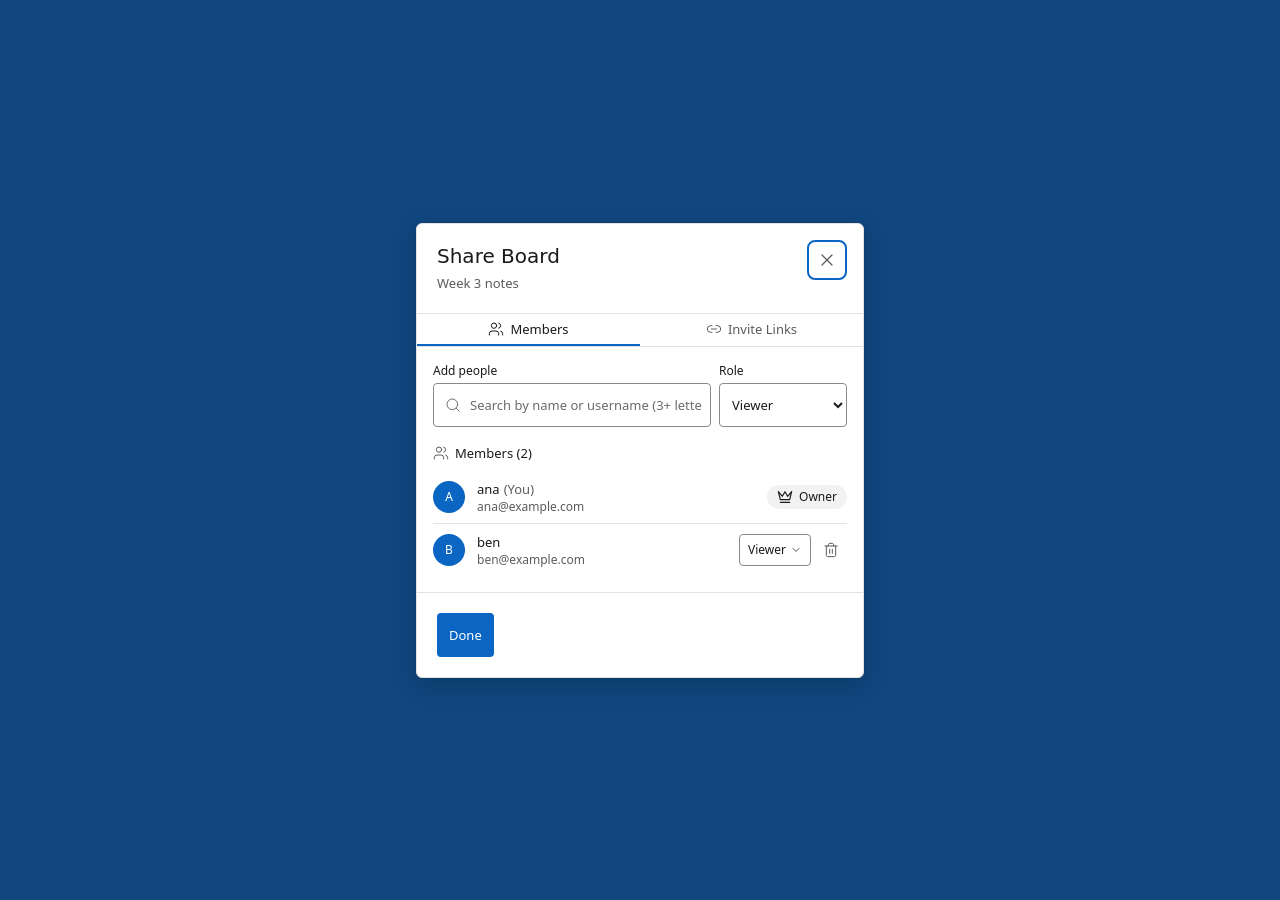
Test: ShareModal › copying an invite link announces the feedback in a status region
The image size is (1280, 900).
Click the tab "Invite Links" at (752, 330), box 640,314 -> 863,346
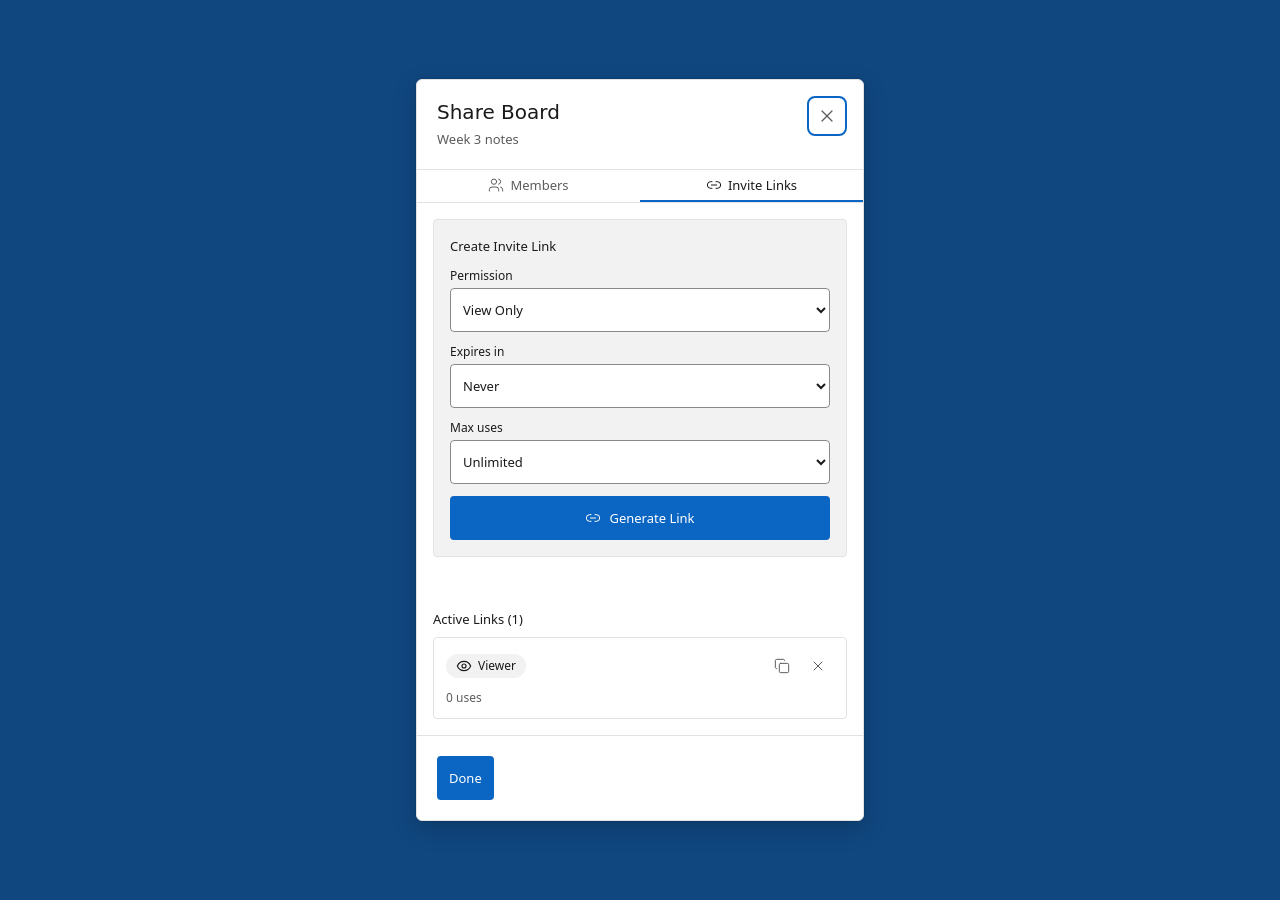
Click the button named "Copy link" at (782, 666), box 766,650 -> 798,682
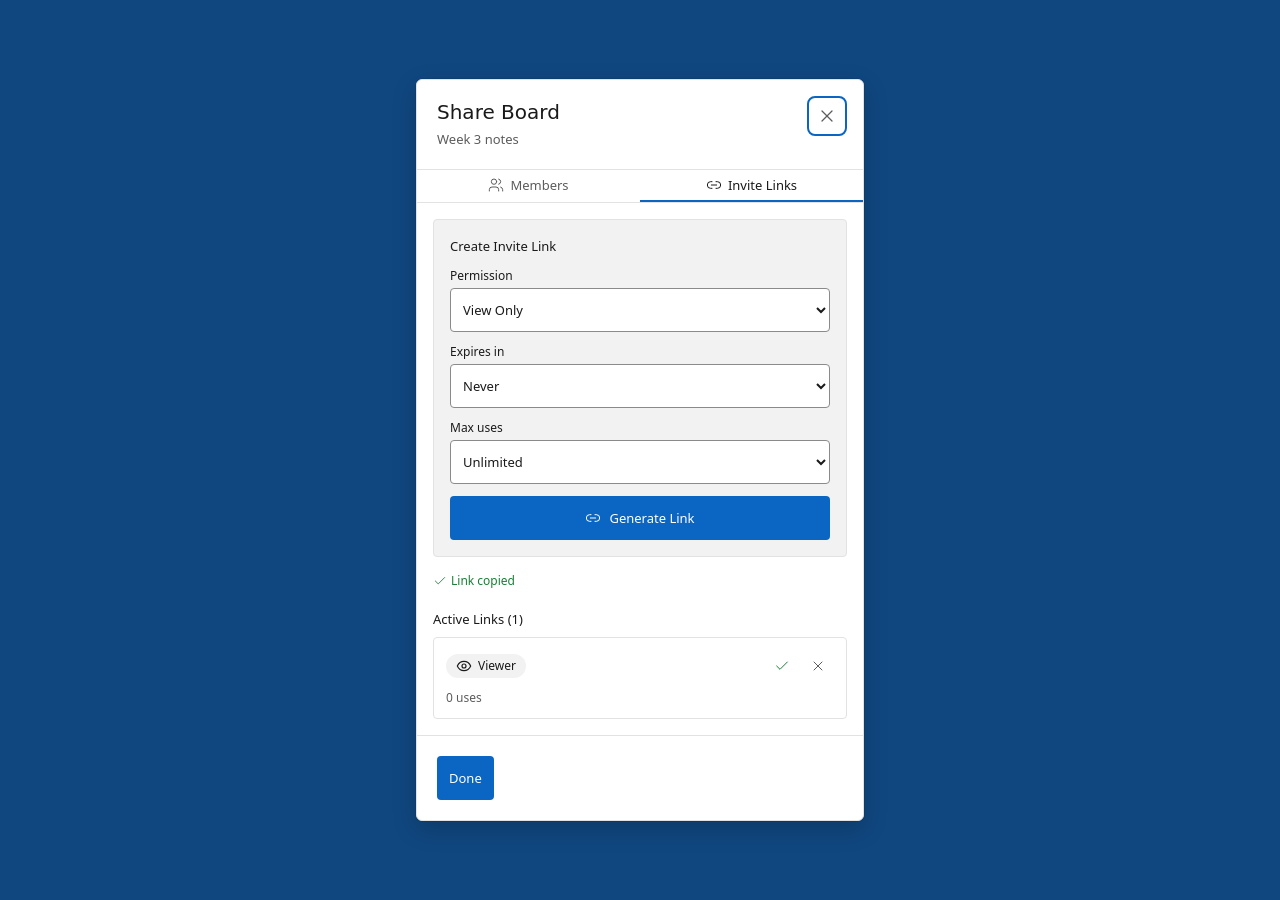
Expected: the message reads "Link copied", 451,572 -> 515,589
